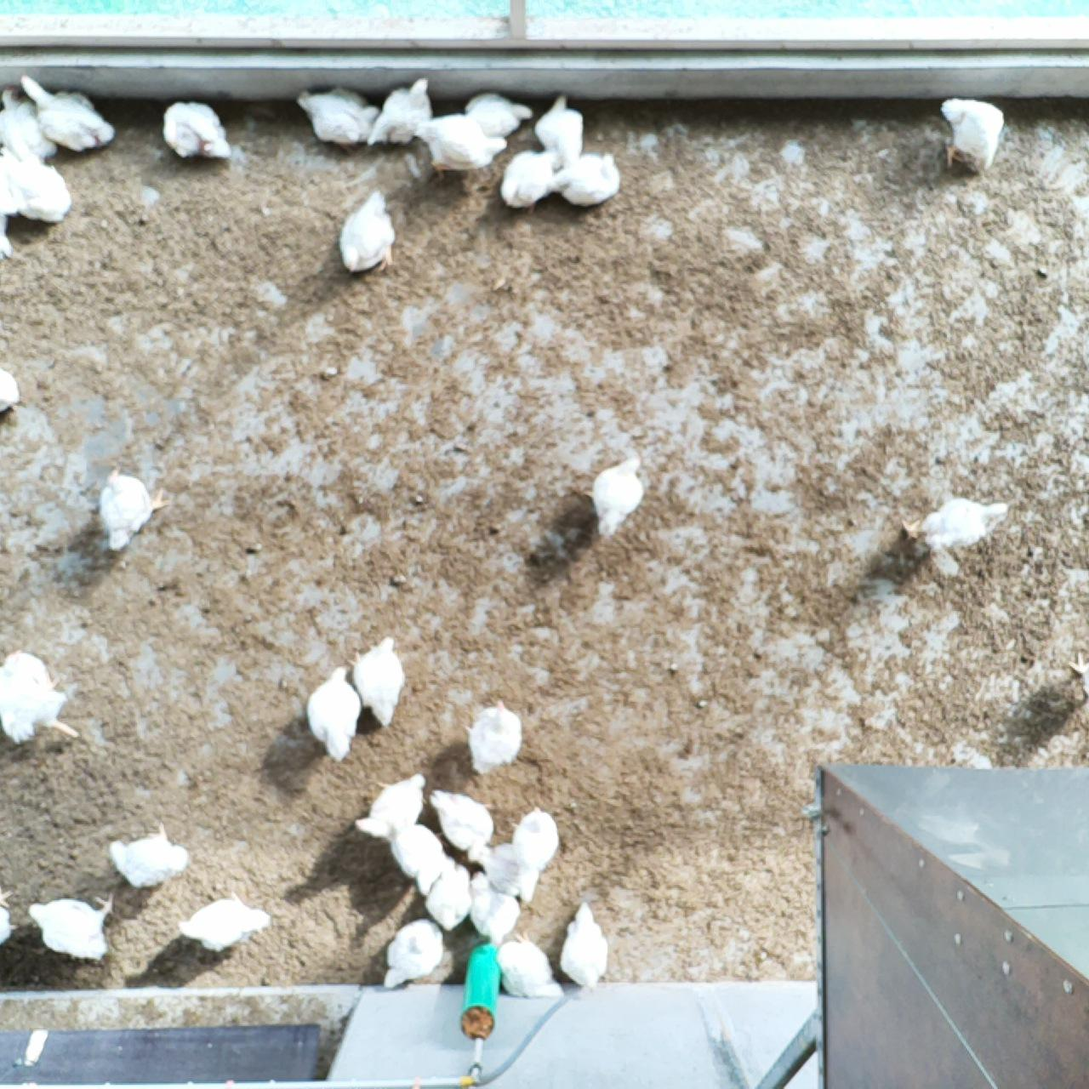chicken: (14, 71, 117, 157), (0, 648, 82, 754), (20, 883, 118, 970), (94, 464, 174, 560), (413, 110, 513, 183), (300, 661, 370, 765), (898, 493, 1015, 555), (291, 77, 381, 155), (104, 820, 195, 896), (574, 454, 651, 542), (176, 887, 275, 955), (344, 632, 412, 730), (0, 139, 73, 228), (490, 925, 566, 1008), (0, 143, 72, 228), (508, 802, 562, 912), (334, 186, 397, 279), (932, 94, 1004, 175), (461, 695, 528, 778), (157, 96, 237, 164), (380, 914, 447, 995), (426, 786, 497, 862), (352, 770, 429, 840), (366, 74, 435, 152), (544, 147, 625, 212), (463, 866, 524, 951), (558, 898, 612, 991), (0, 82, 63, 161), (386, 822, 449, 898), (422, 853, 475, 934), (532, 90, 587, 166), (499, 144, 560, 212), (465, 834, 527, 900), (460, 87, 536, 137), (0, 883, 20, 949), (0, 363, 23, 419)
